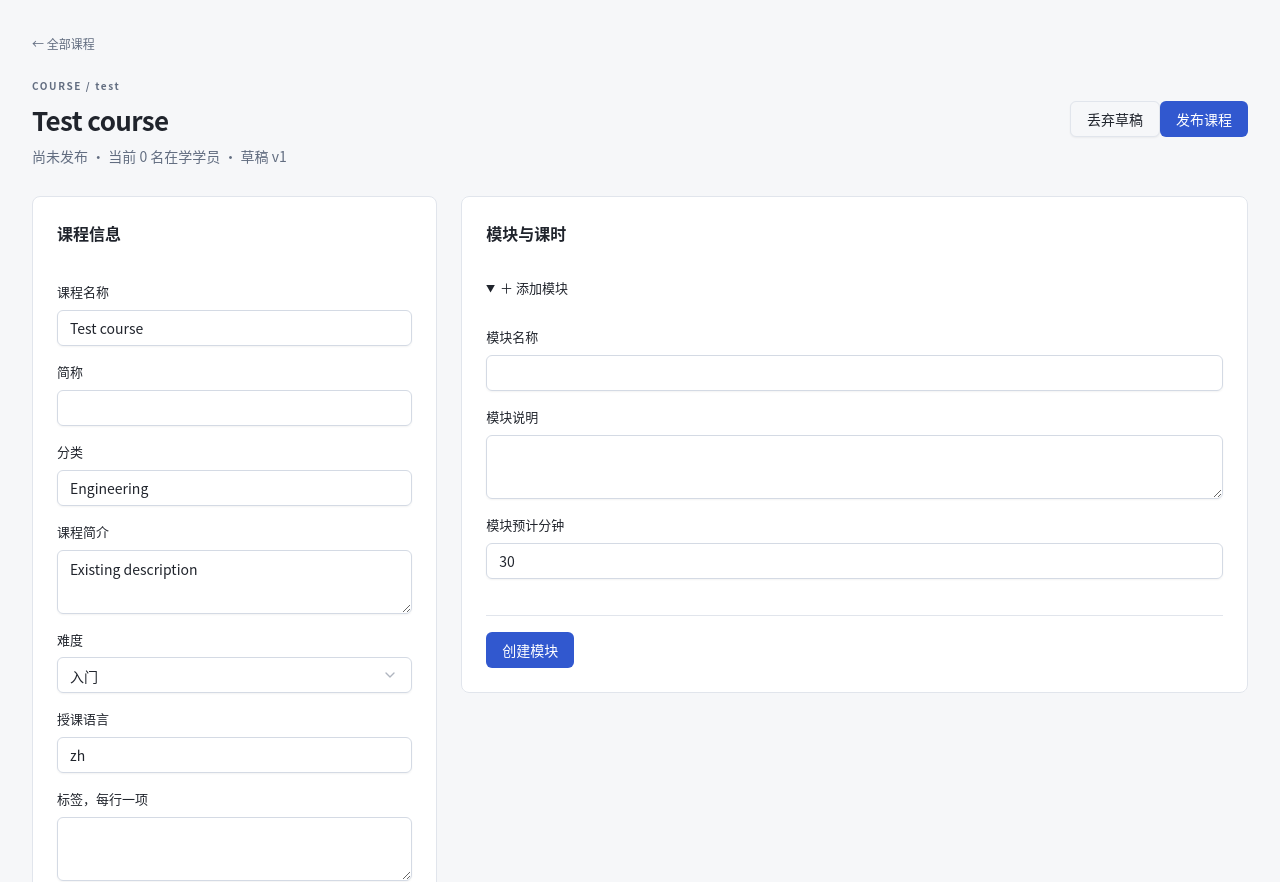
requires metadata to be saved before publishing or discarding
This screenshot has width=1280, height=882.
Step 1. Replace the text in the field labelled "课程名称" with "Unsaved title" → x=235, y=328, box [57, 310, 412, 346]
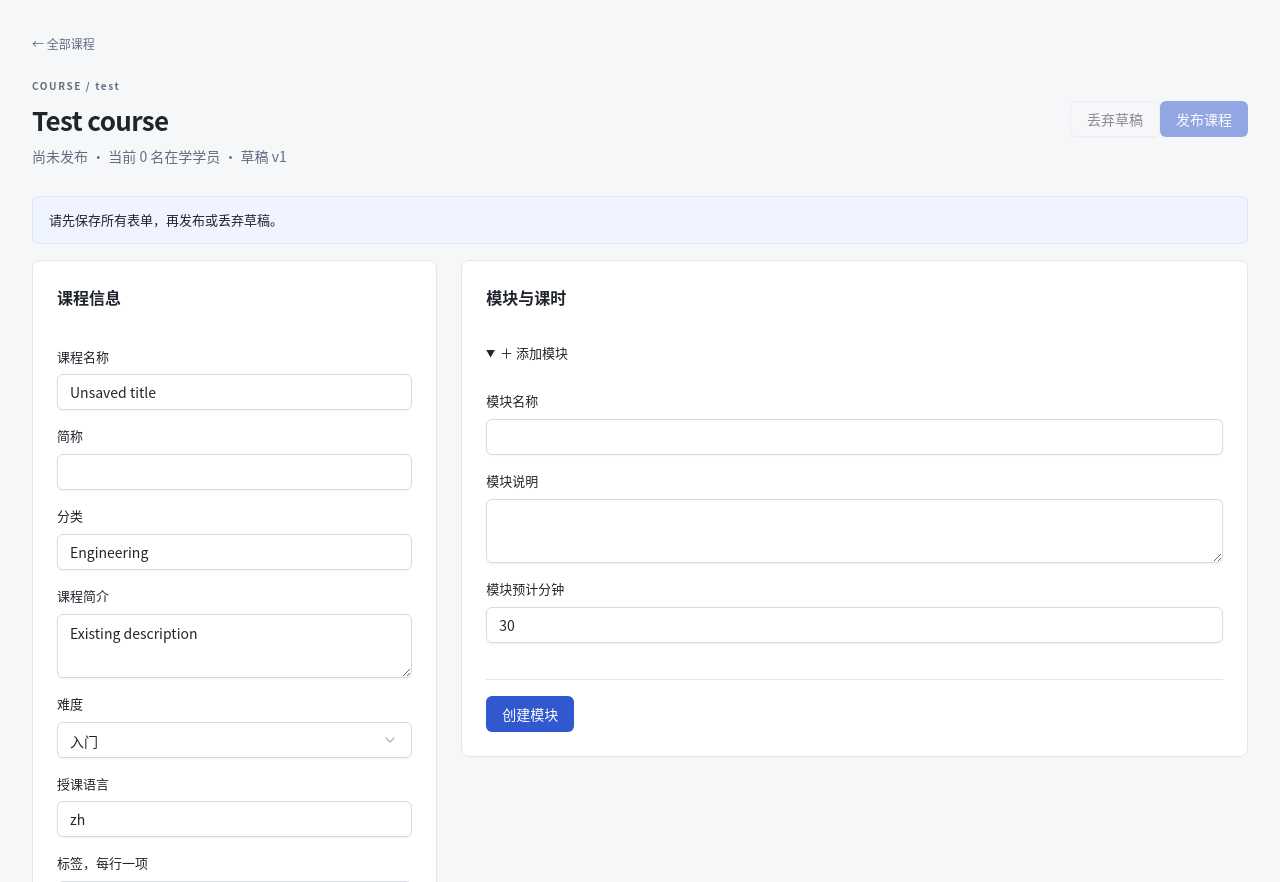
Expected: the button "发布课程" is disabled, [1160, 101, 1248, 137]
Expected: the button "丢弃草稿" is disabled, [1070, 101, 1160, 137]
